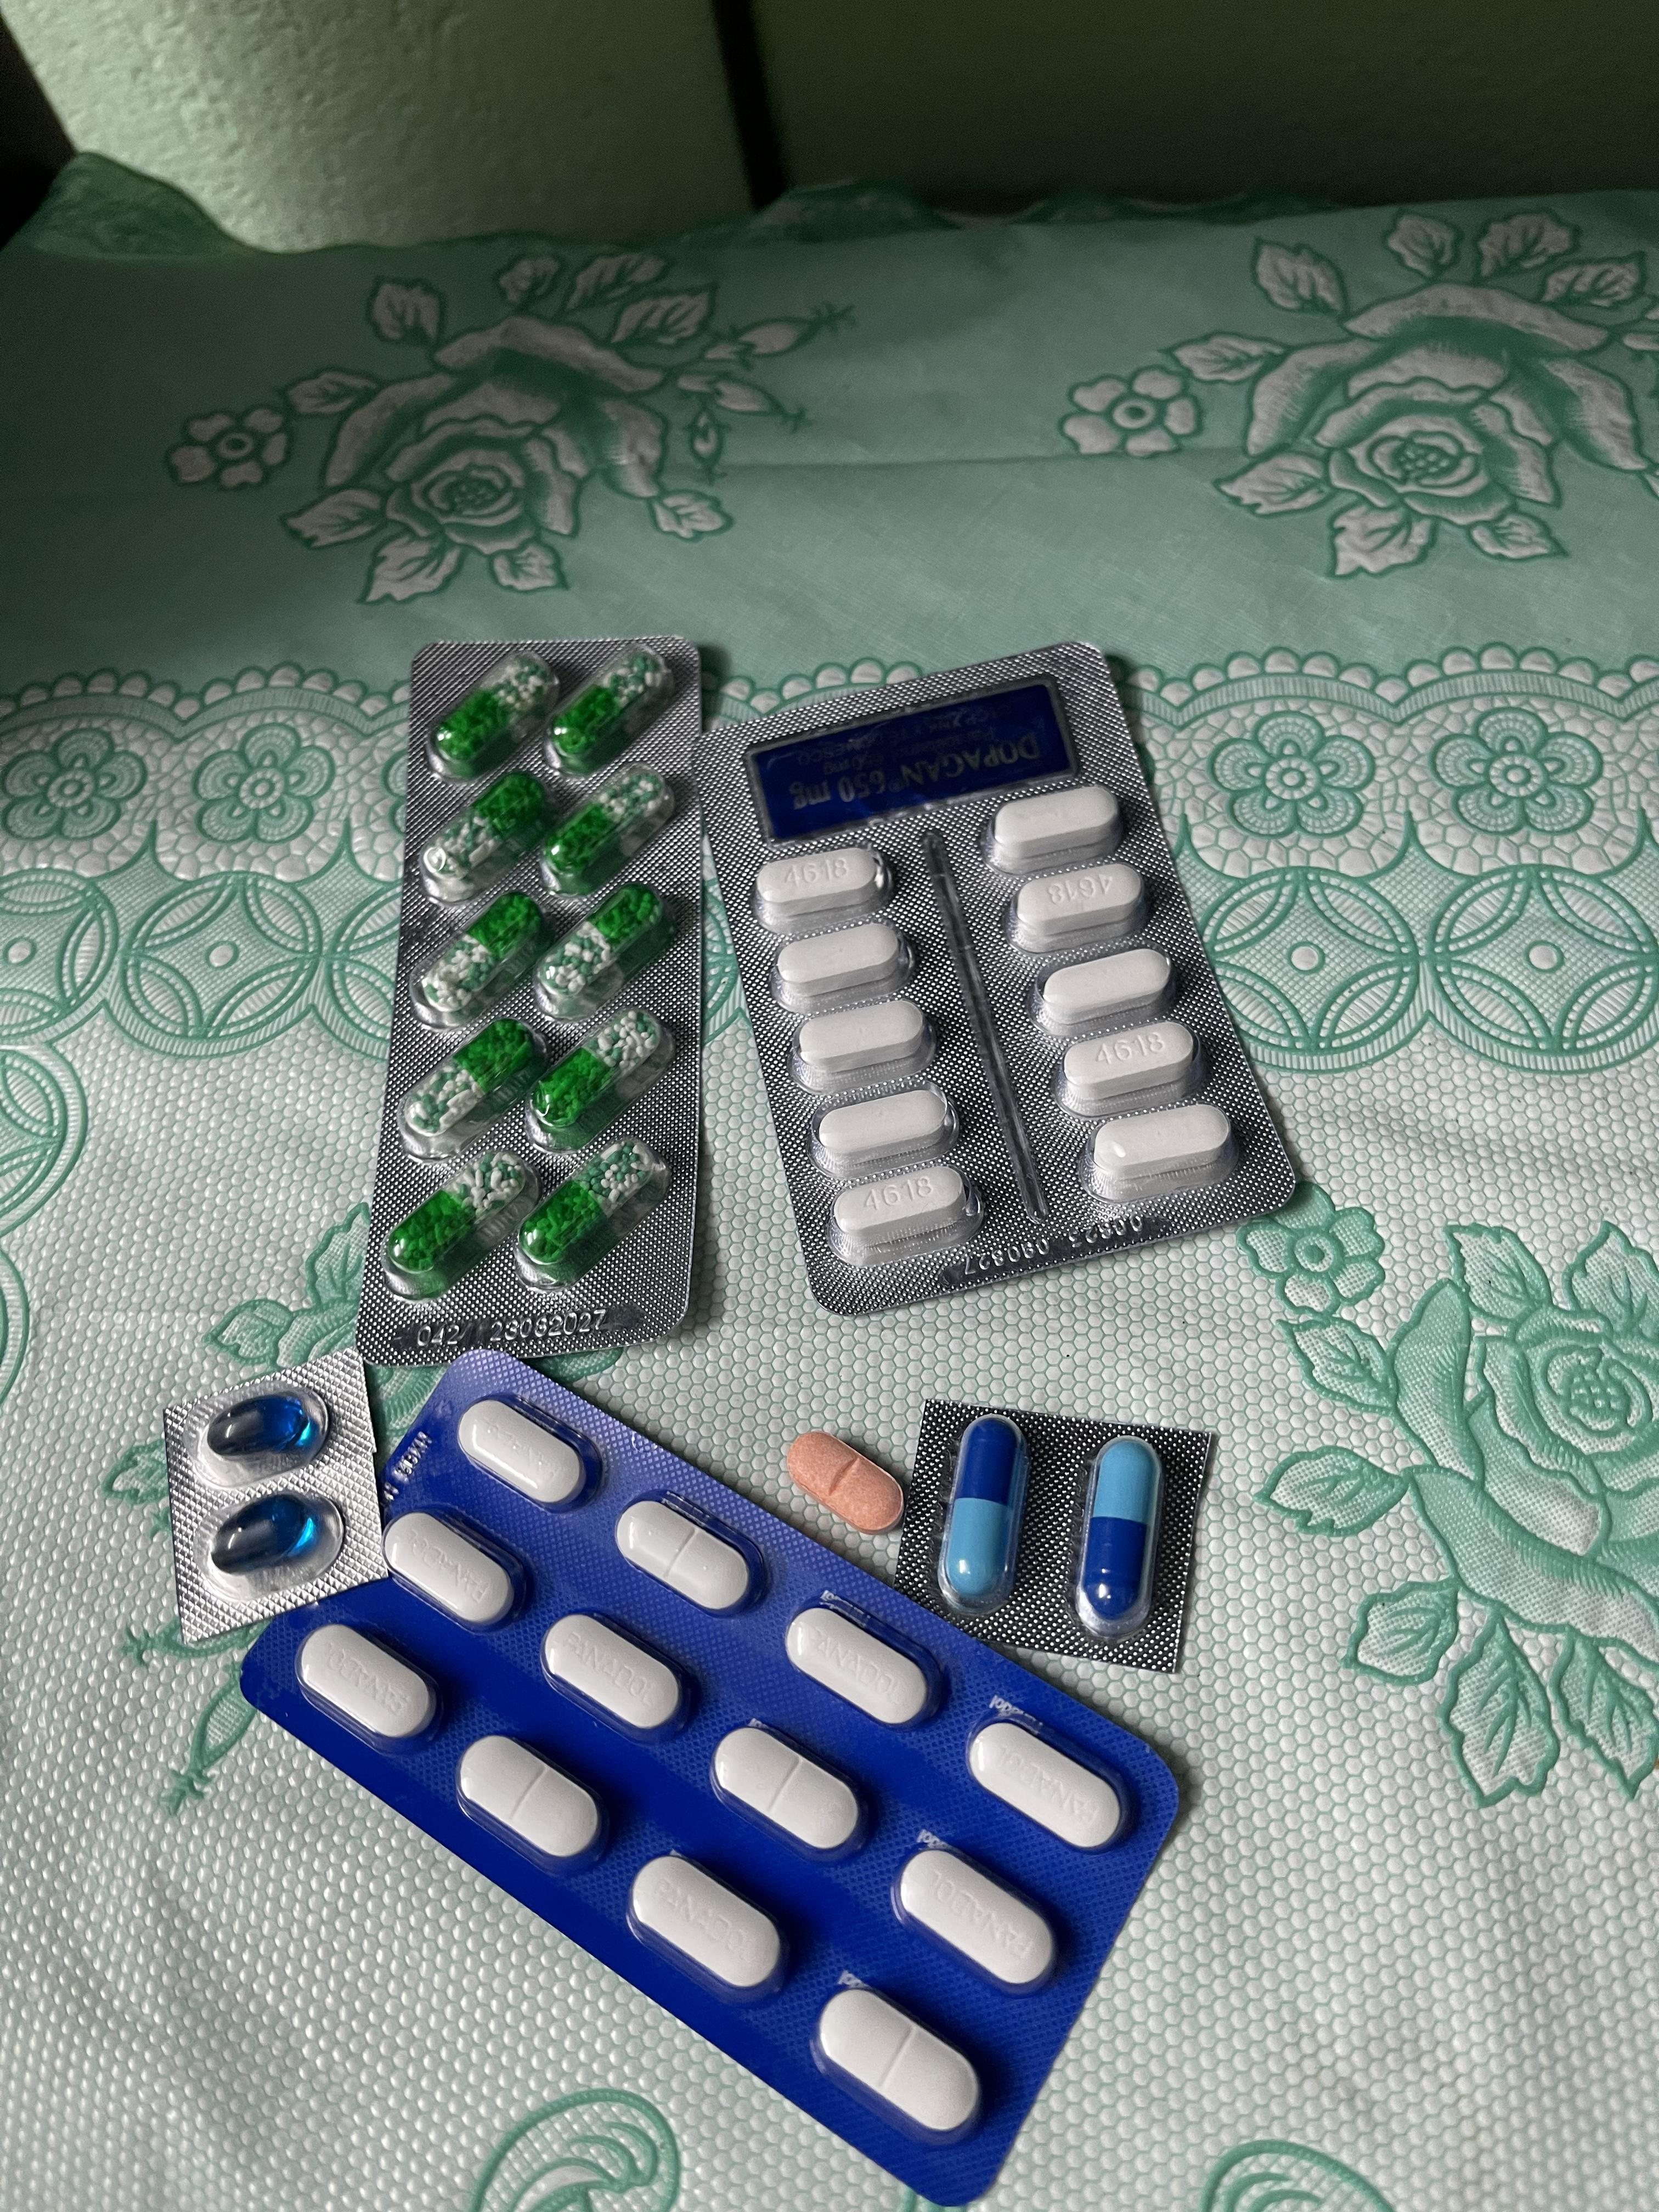Lincomyxin_500mg: (209, 1493, 321, 1571), (207, 1397, 310, 1458)
Loratadine_10mg: (786, 1430, 903, 1533)
Paracetamol_350mg: (810, 1984, 983, 2151), (896, 1841, 1063, 1994), (967, 1714, 1134, 1857), (629, 1853, 786, 2003), (714, 1723, 868, 1864), (458, 1737, 608, 1876), (784, 1597, 939, 1731), (540, 1609, 690, 1743), (298, 1623, 441, 1754), (387, 1505, 530, 1630), (617, 1496, 758, 1616), (457, 1397, 594, 1508)
Paracetamol_500mg: (1084, 1103, 1229, 1207), (833, 1163, 978, 1268), (1058, 1017, 1197, 1116), (1037, 948, 1173, 1043), (795, 998, 932, 1092), (774, 920, 911, 1012), (816, 1090, 958, 1179), (755, 843, 892, 934), (988, 784, 1121, 876), (1011, 864, 1143, 956)
Paracetamol_650mg: (387, 1150, 540, 1298), (516, 1136, 669, 1282), (528, 1007, 680, 1151), (406, 1015, 552, 1157), (533, 883, 676, 1022), (413, 890, 552, 1024), (540, 768, 680, 900), (430, 653, 565, 784), (423, 770, 558, 897), (545, 646, 671, 775)
pill: (1070, 1435, 1161, 1646), (938, 1418, 1028, 1618)
